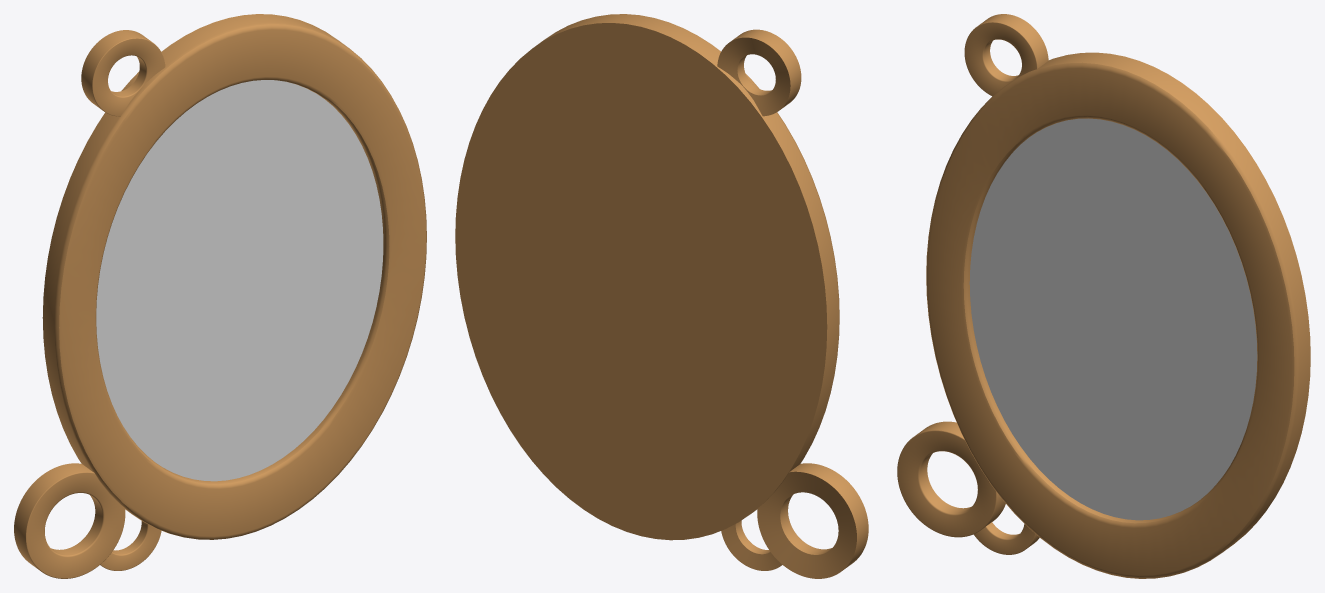
Rendered from Mirror.fbx.
3 renders of one model, left to right at view 1: azimuth 30°, elevation 25°; view 2: azimuth 150°, elevation 25°; view 3: azimuth 330°, elevation 25°, orthographic.
Visible parts, largest first — view 1: 柱体; view 2: 柱体; view 3: 柱体.
Part boxes in pixels (x1,y1,x2,y2): 柱体: (14,14,426,578); 柱体: (455,14,868,578); 柱体: (897,14,1310,578).
Size of the model in its own units: 32.57 by 41.27 by 2.03.
